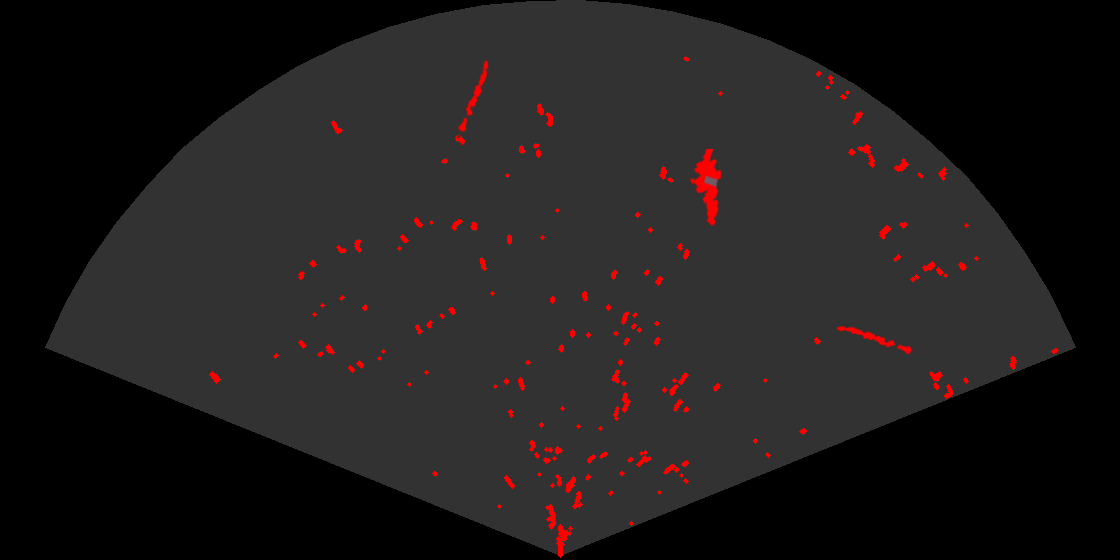chain: (456, 58, 490, 138), (834, 324, 918, 356)
frogman: (688, 149, 724, 228)
